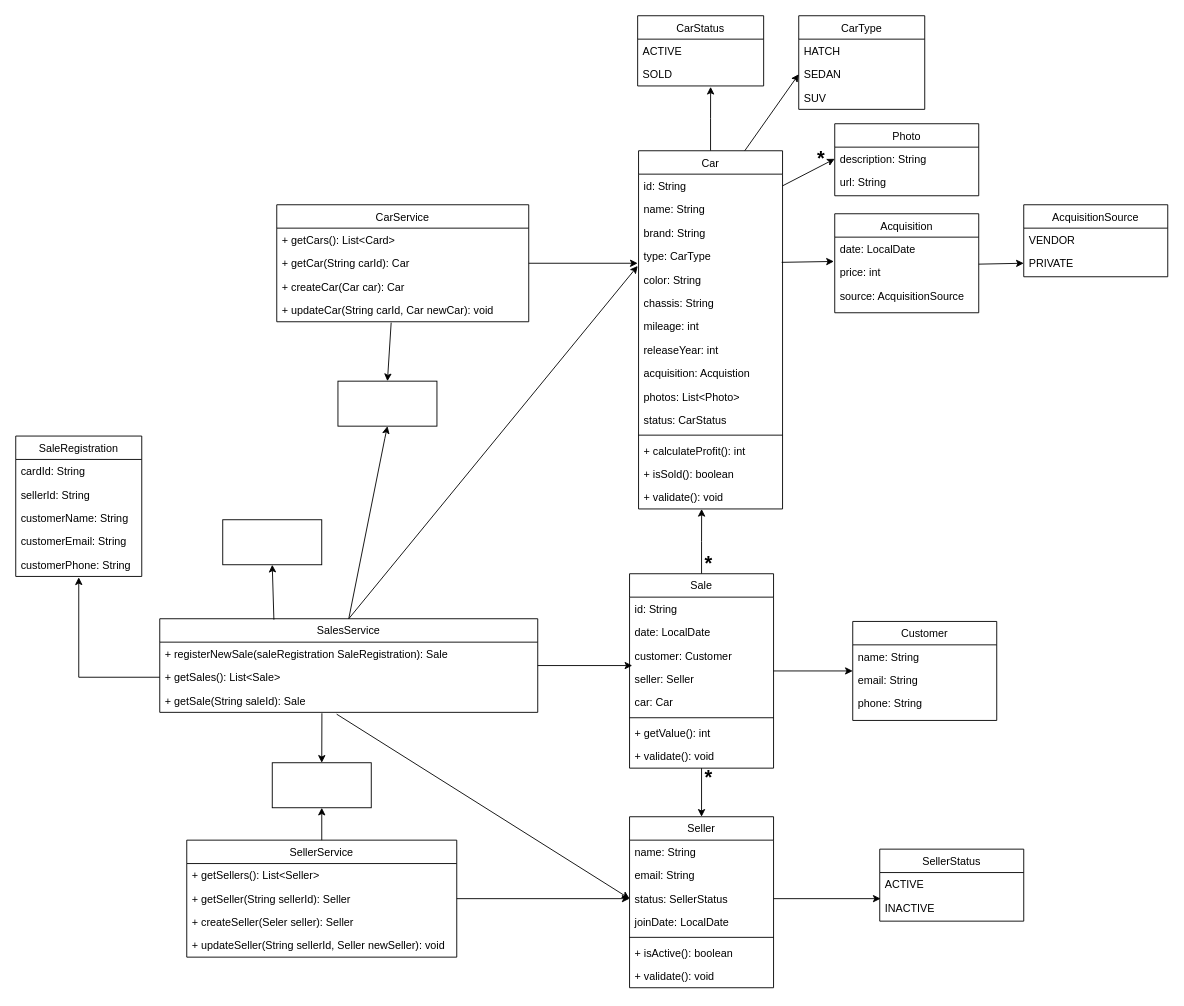
Some shapes in this 1184 by 1006 pixel diagram are drawn without their labels. Here are the shapes that lost their labels. From the top down, the centre of each, then its label:
point (387, 403): «interface» CarRepository
point (272, 542): «interface» SalesRepository
point (321, 785): «interface» SellerRepository
